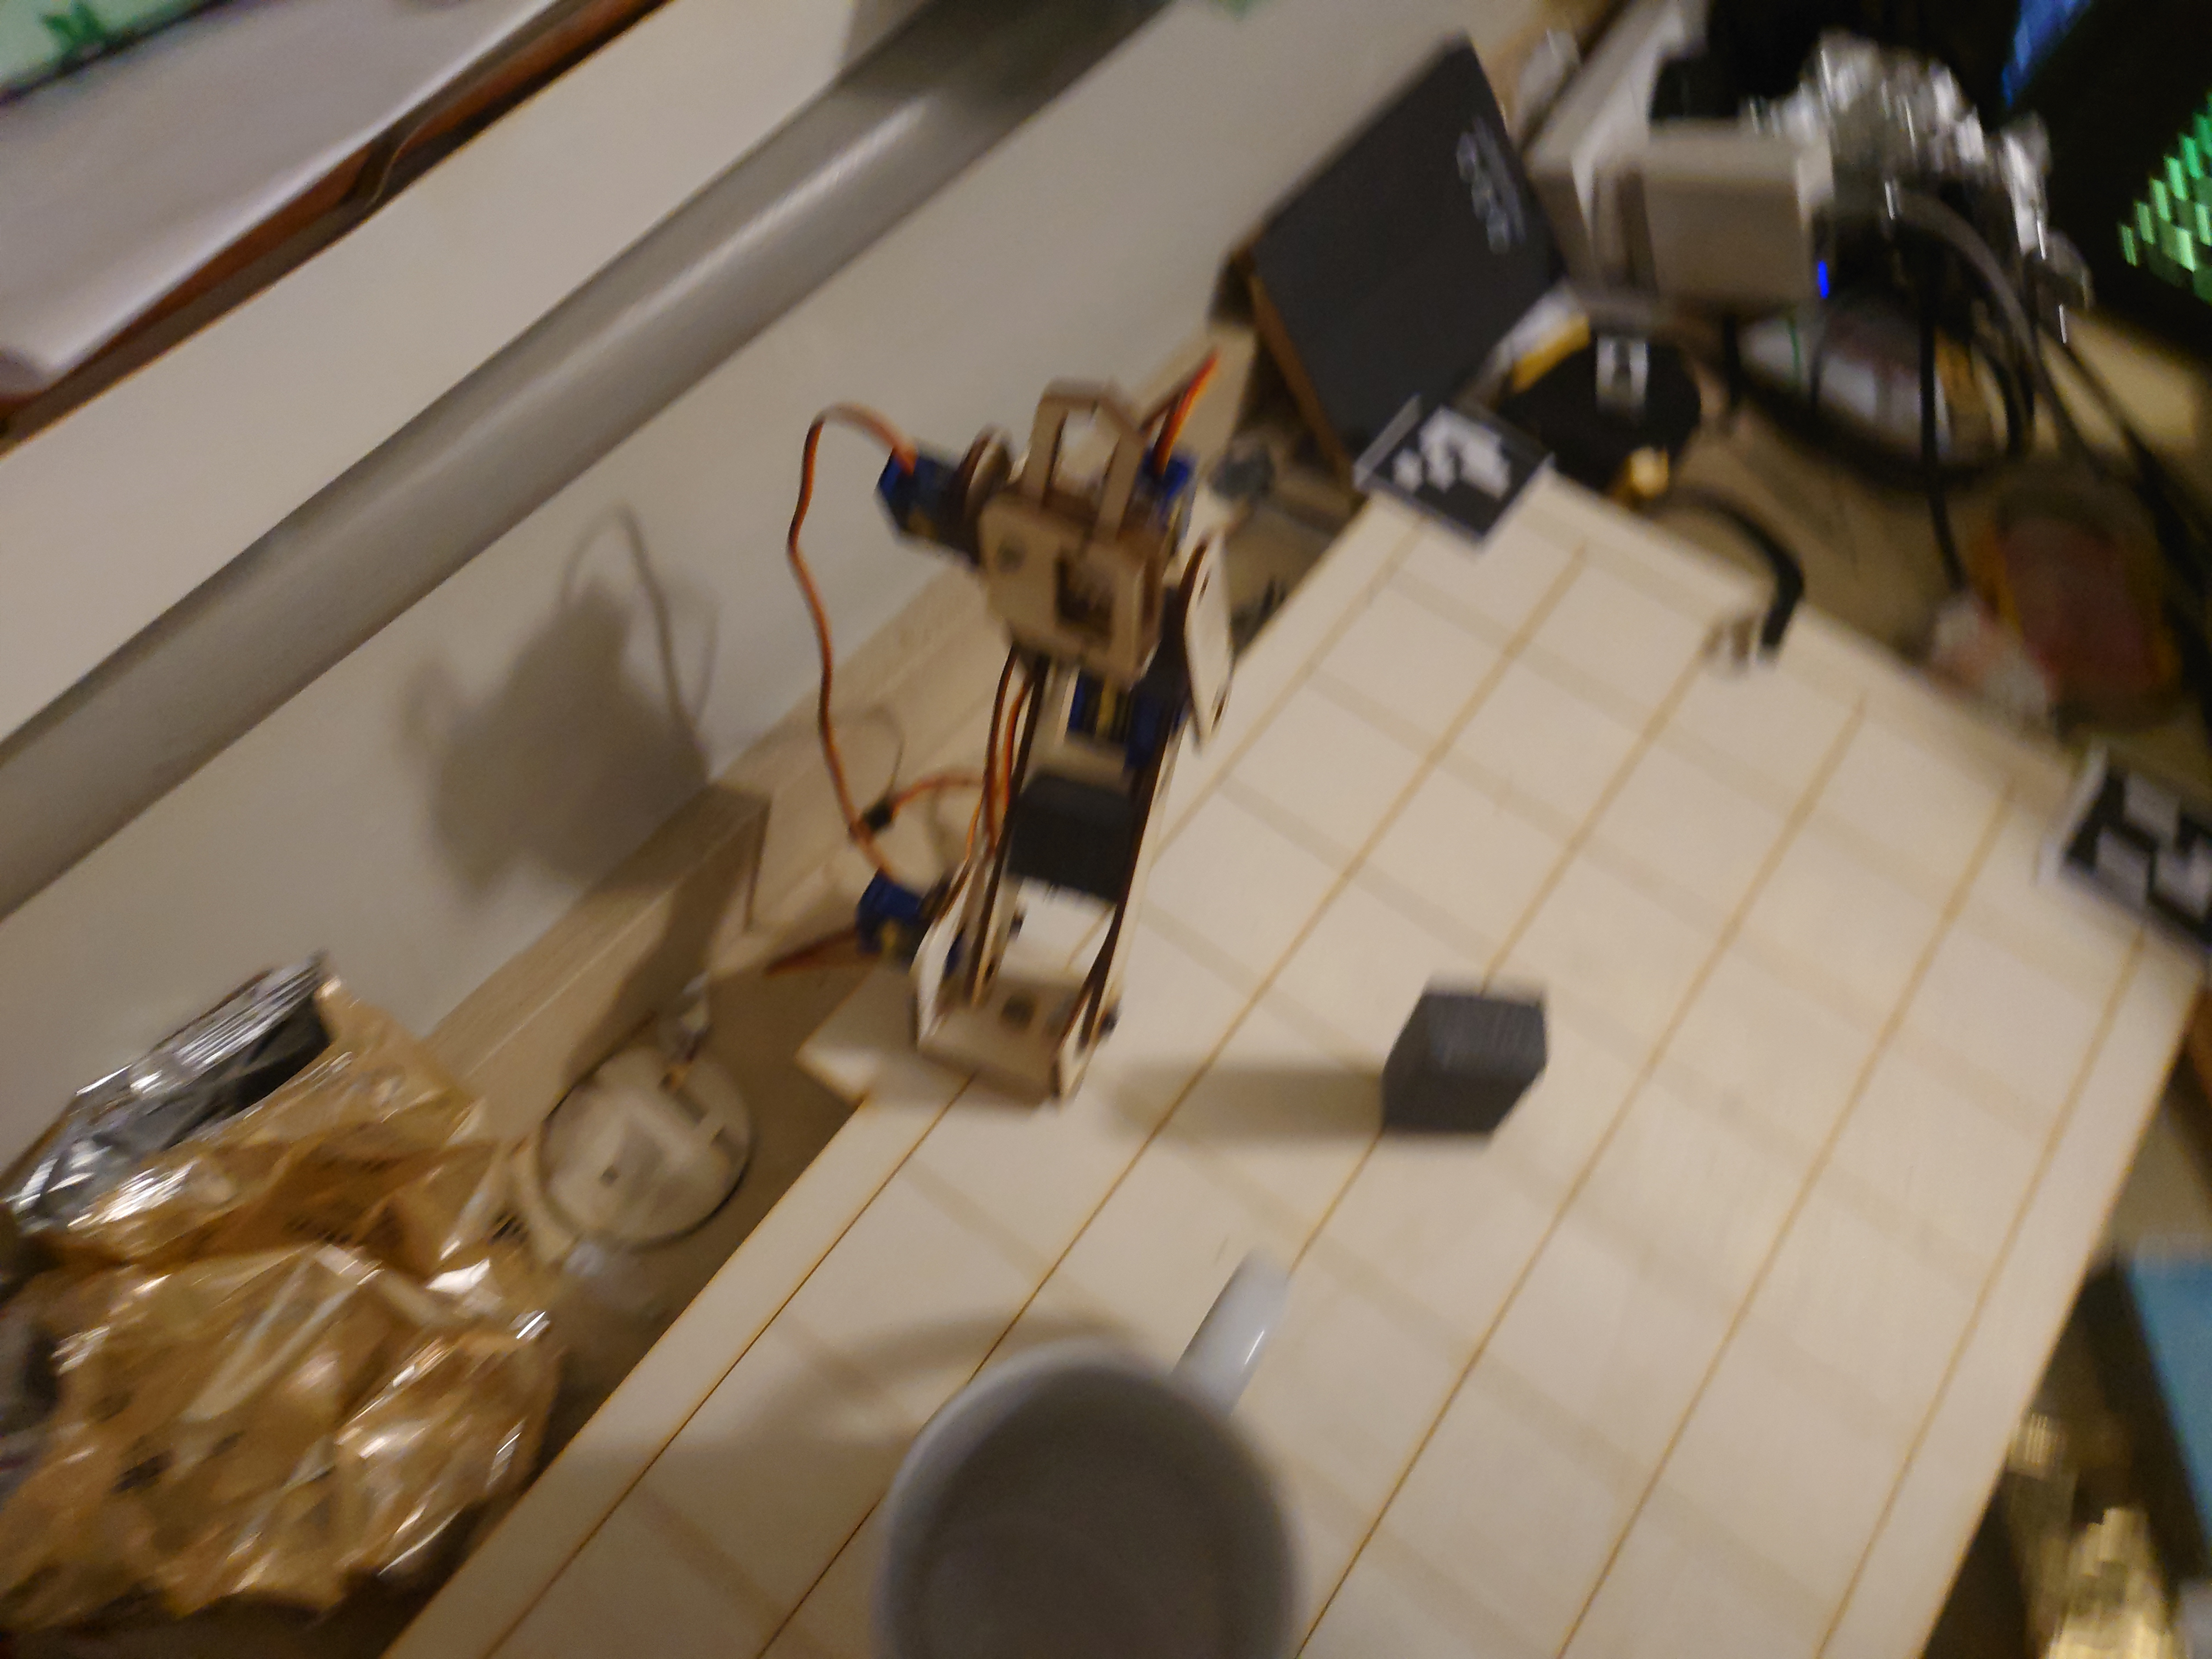cup: (862, 1256, 1327, 1659)
target: (1374, 978, 1552, 1152)
